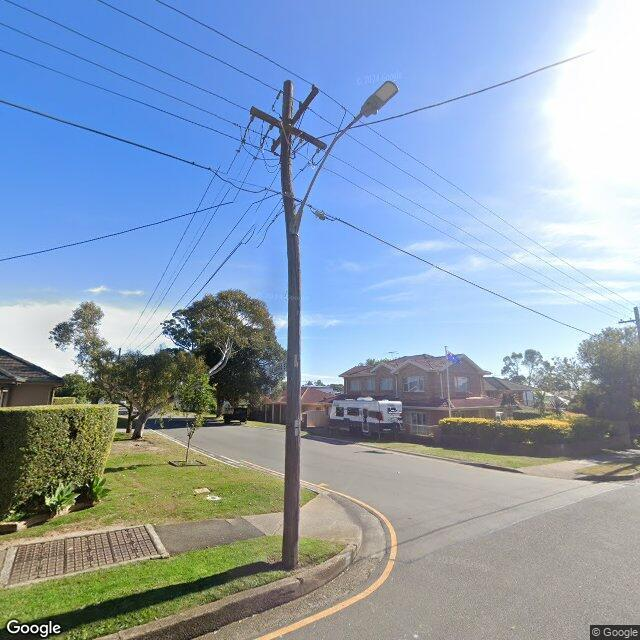crossarm: (249, 106, 328, 152), (270, 85, 319, 152), (617, 318, 640, 323)
streetlight: (290, 79, 399, 236)
timber-pole: (282, 80, 304, 569), (634, 306, 640, 336)
